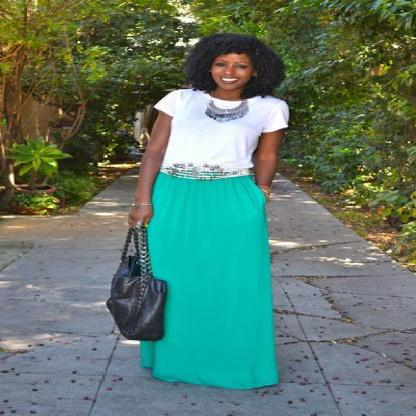bag: (106, 224, 168, 340)
shirt: (154, 89, 288, 171)
skirt: (140, 172, 278, 388)
